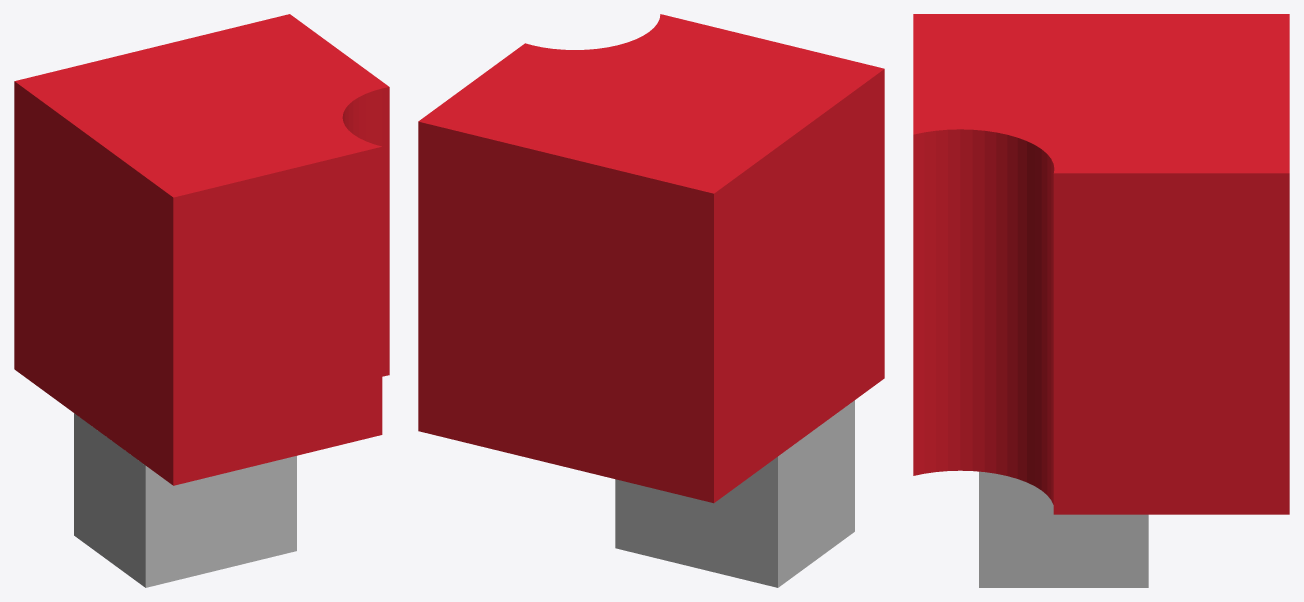
File: tinker.obj
3 renders of one model, left to right at view 1: azimuth 30°, elevation 25°; view 2: azimuth 150°, elevation 25°; view 3: azimuth 270°, elevation 25°, orthographic. The views are drawn at different scales.
Parts seen in each view (by area): view 1: group_0_15277357, group_0_-1711284966; view 2: group_0_15277357, group_0_-1711284966; view 3: group_0_15277357, group_0_-1711284966.
Part boxes in pixels (x1,y1,x2,y2): group_0_15277357: (14, 14, 389, 485); group_0_-1711284966: (74, 413, 296, 587); group_0_15277357: (418, 14, 884, 503); group_0_-1711284966: (615, 400, 854, 587); group_0_15277357: (913, 14, 1289, 514); group_0_-1711284966: (979, 471, 1148, 587).
Size of the model in its own units: 40 by 57 by 40.
